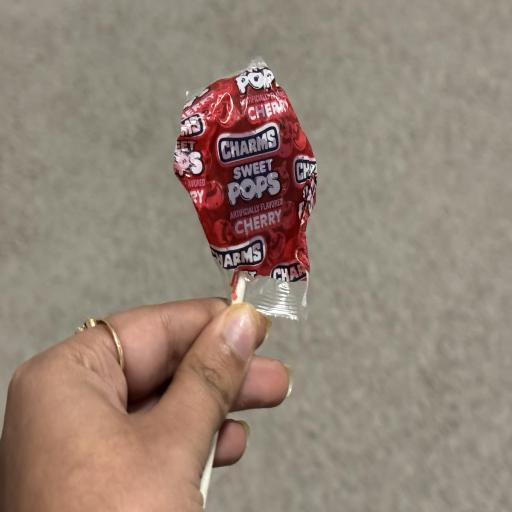chocolate: (174, 62, 316, 318)
